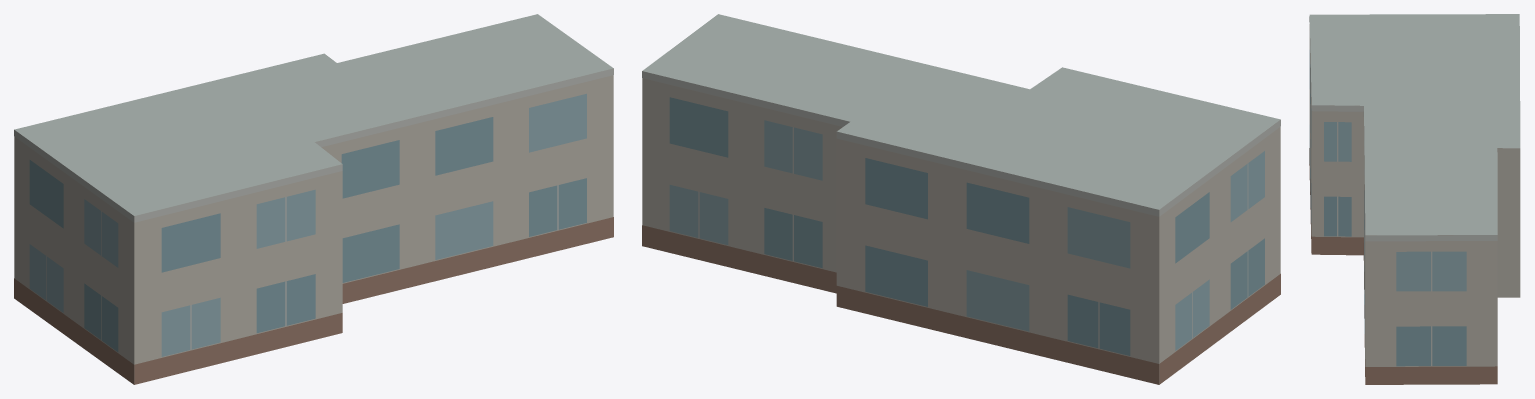
The model's file is survey-upis-32782869.glb.
3 renders of one model, left to right at view 1: azimuth 30°, elevation 25°; view 2: azimuth 150°, elevation 25°; view 3: azimuth 270°, elevation 25°, orthographic. The views are drawn at different scales.
Visible parts, largest first — view 1: survey-upis-32782869.tmp; view 2: survey-upis-32782869.tmp; view 3: survey-upis-32782869.tmp.
Boxes of the visible parts, bbox=[...] form: survey-upis-32782869.tmp: bbox=[14, 14, 613, 384]; survey-upis-32782869.tmp: bbox=[642, 14, 1280, 384]; survey-upis-32782869.tmp: bbox=[1309, 14, 1520, 384].
Bounding box in the file's own units: 19.39 × 6.1 × 7.81.
